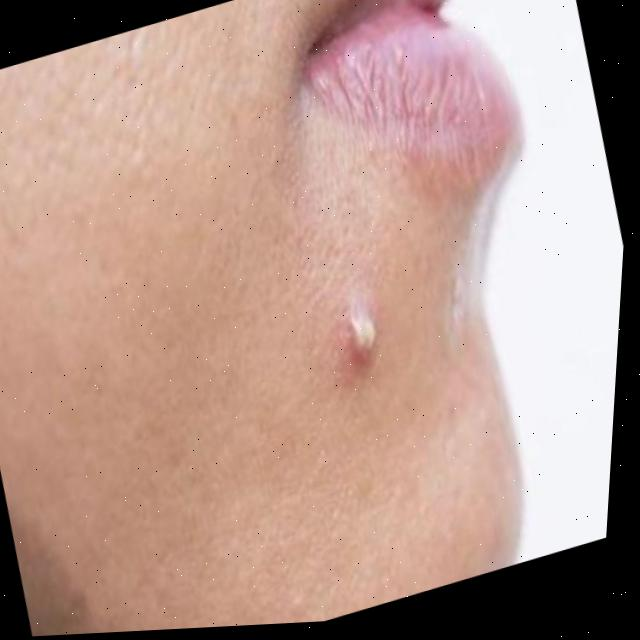Acne: (351, 309, 393, 364)
